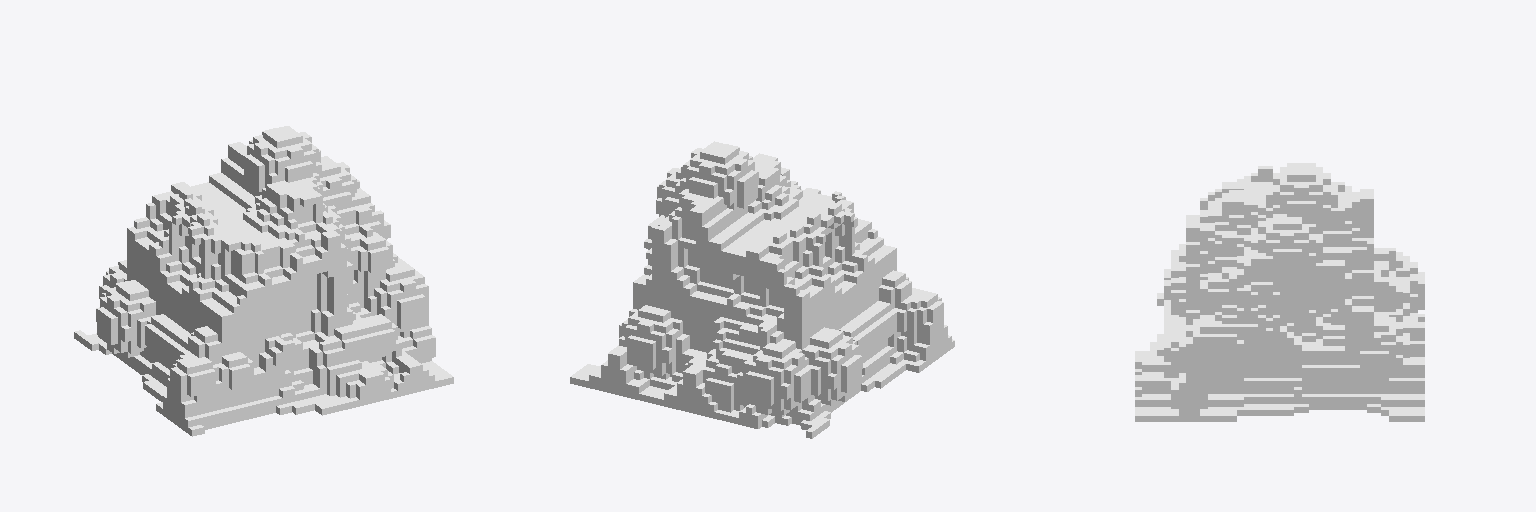
File: SpaceRock2.obj
3 renders of one model, left to right at view 1: azimuth 30°, elevation 25°; view 2: azimuth 150°, elevation 25°; view 3: azimuth 270°, elevation 25°, orthographic.
Visible parts, largest first — view 1: SpaceRock2; view 2: SpaceRock2; view 3: SpaceRock2.
Part boxes in pixels (x1,y1,x2,y2): SpaceRock2: (74, 126, 453, 436); SpaceRock2: (570, 141, 954, 438); SpaceRock2: (1135, 163, 1424, 421).
Bounding box in the file's own units: 40 × 32 × 40.